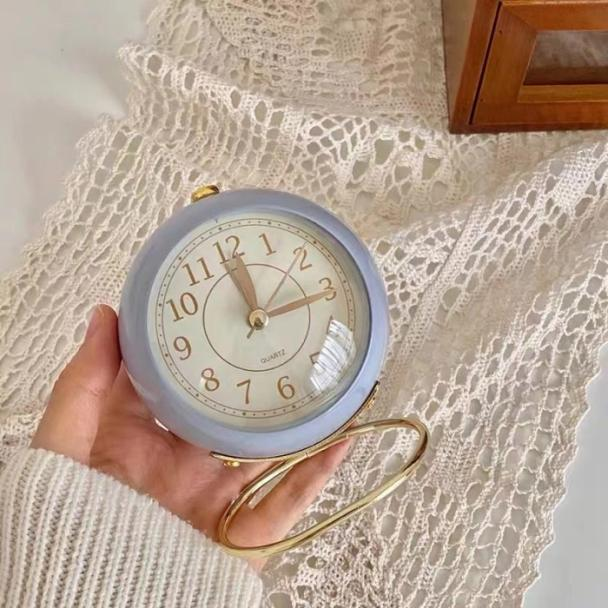Jam: (122, 188, 394, 452)
